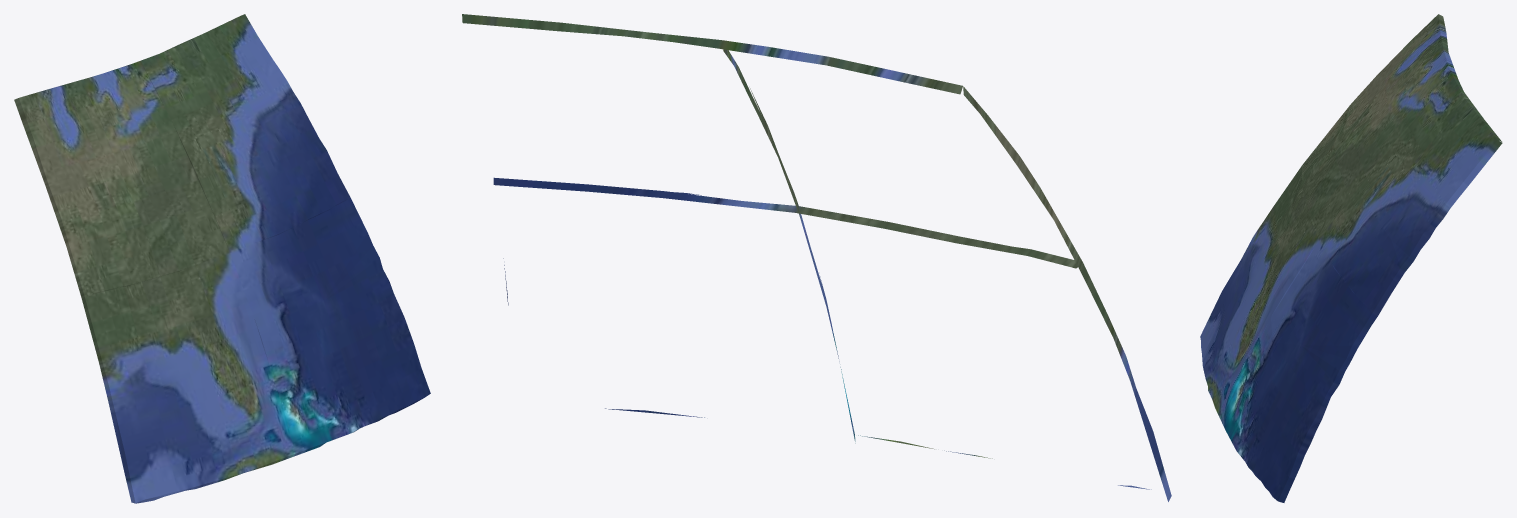
The picture shows the model from 3 angles, left to right: view 1: azimuth 30°, elevation 25°; view 2: azimuth 150°, elevation 25°; view 3: azimuth 270°, elevation 25°; orthographic projection. The views are drawn at different scales.
Size of the model in its own units: 2285098 by 2105934 by 1757827.
Materials: 1 (1 with a texture image).
